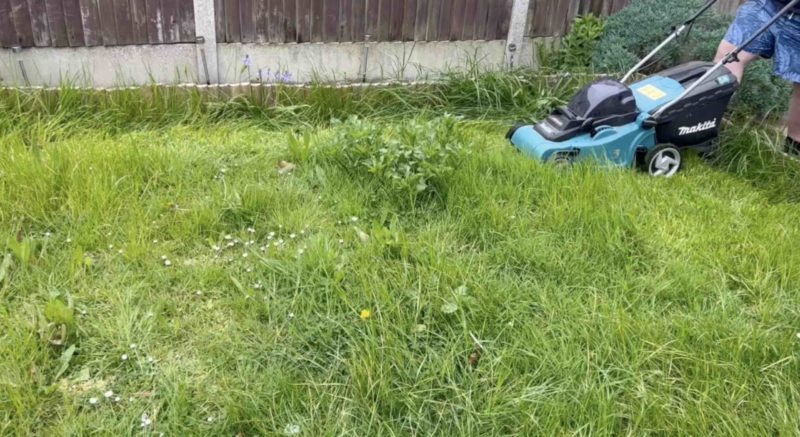grass: (1, 185, 800, 437)
